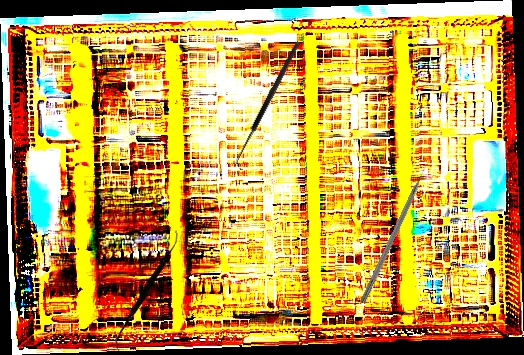Hook Surgical: (359, 160, 433, 305), (231, 40, 307, 171)
Spatula Surgical: (111, 230, 184, 352)
